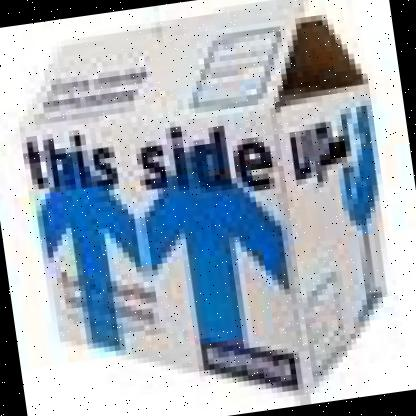box: (18, 1, 387, 403)
opened: (18, 1, 369, 127)
